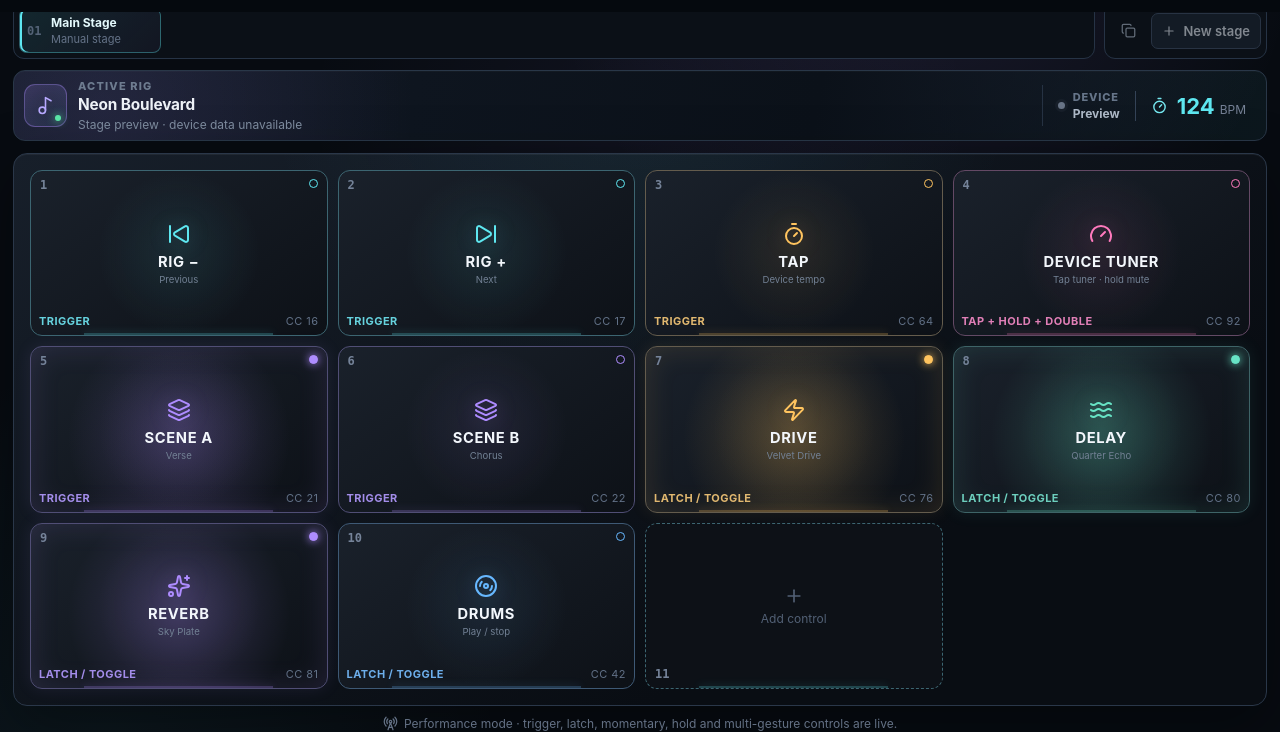
it: StageHand layout lock › disables removal from the context menu while locked
(page scrolled)
Right-click the button "1 RIG − Previous Trigger CC 16": {"x": 179, "y": 253} [30,170,328,336]
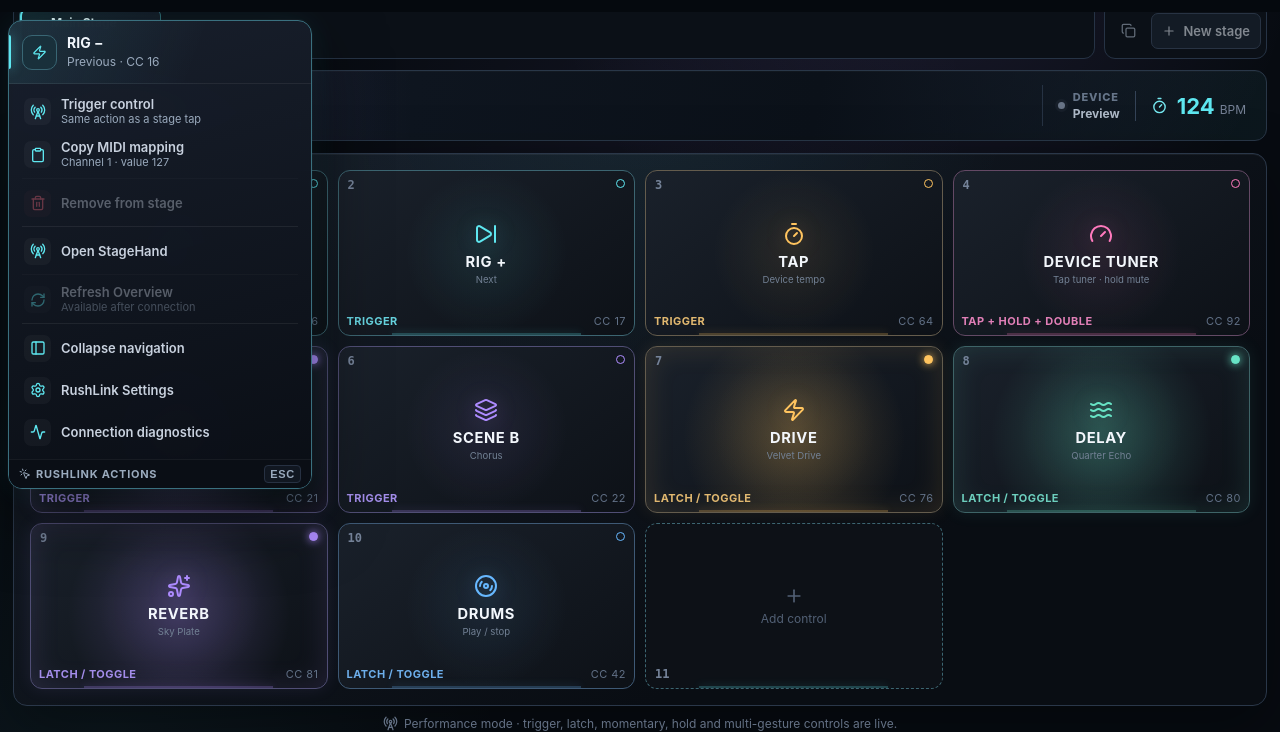
Result: the menu item "Remove from stage" is disabled at [15,182,305,224]
Result: the menu item "Trigger control Same action as a stage tap" is enabled at [15,90,305,133]
